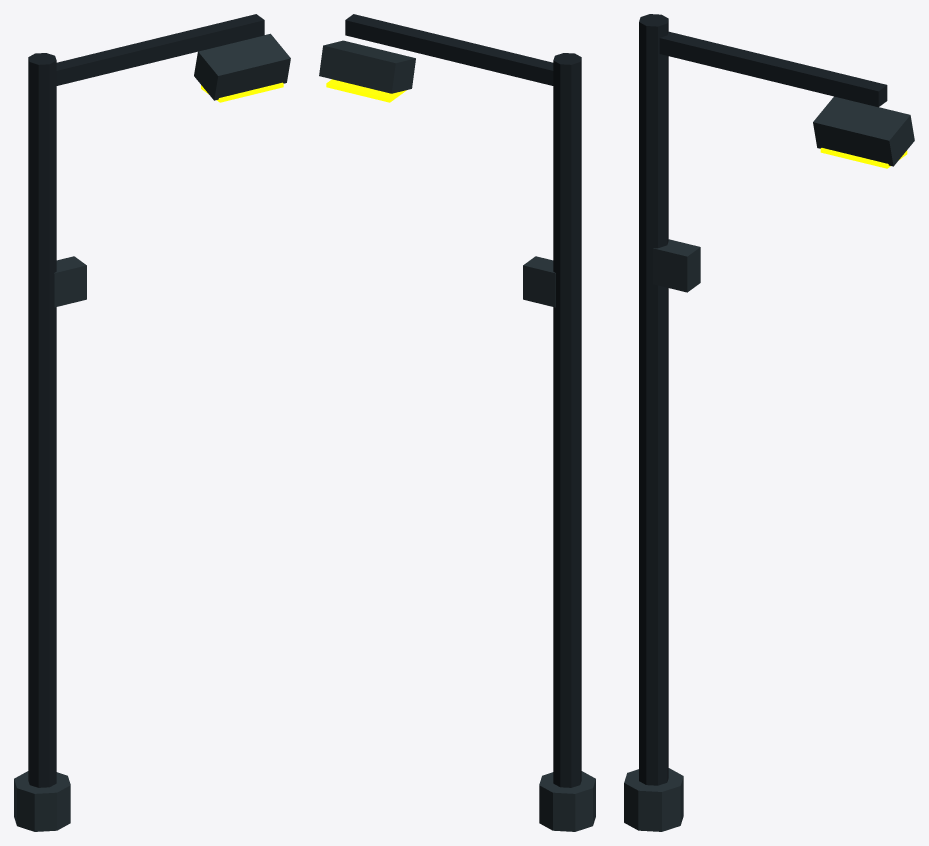
Rendered from farola_urbana.glb.
3 renders of one model, left to right at view 1: azimuth 30°, elevation 25°; view 2: azimuth 150°, elevation 25°; view 3: azimuth 330°, elevation 25°, orthographic. The views are drawn at different scales.
Visible parts, largest first — view 1: farola_urbana; view 2: farola_urbana; view 3: farola_urbana.
Boxes of the visible parts, <box> form: farola_urbana: <box>14,14,290,831</box>; farola_urbana: <box>319,14,595,831</box>; farola_urbana: <box>624,14,914,831</box>.
Size of the model in its own units: 1.44 by 4 by 0.28.
